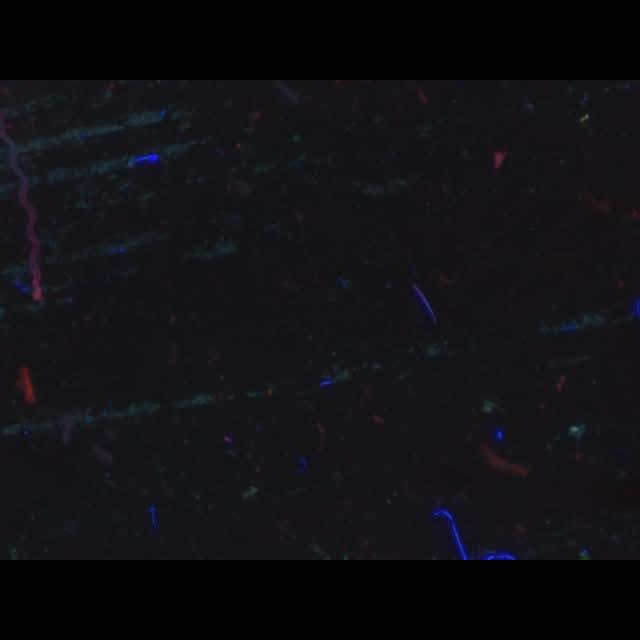Fragment: (20, 364, 38, 404)
